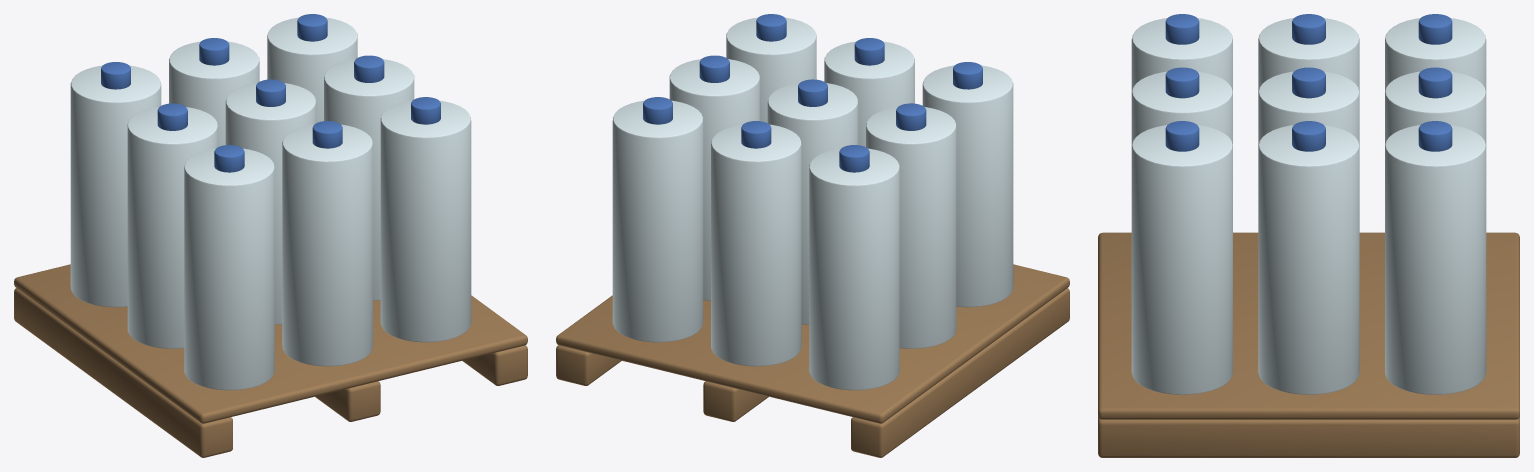
File: pallet.glb
3 views of the same model, side by side, from view 1: azimuth 30°, elevation 25°; view 2: azimuth 150°, elevation 25°; view 3: azimuth 270°, elevation 25° (orthographic). The views are drawn at different scales.
Visible parts, largest first — view 1: b20, b10, b00, deck, b02, b01, rail-0.45, b11, b21, b12, b22, rail0 (+10 smaller); view 2: b22, b12, b02, deck, b00, b01, rail-0.45, b11, b21, b10, b20, rail0 (+10 smaller); view 3: deck, b20, b22, b21, rail0.45, b00, b02, b10, b12, b01, b11, c10 (+8 smaller).
Boxes of the visible parts, x1,y1,x2,y2 form: b20: [380, 100, 471, 342]; b10: [282, 124, 372, 366]; b00: [184, 148, 274, 390]; deck: [14, 264, 527, 423]; b02: [70, 65, 161, 307]; b01: [127, 107, 217, 348]; rail-0.45: [14, 288, 232, 457]; b11: [225, 83, 316, 324]; b21: [324, 59, 414, 300]; b12: [169, 41, 259, 146]; b22: [267, 17, 357, 122]; rail0: [315, 381, 380, 421]; b22: [612, 100, 703, 342]; b12: [711, 124, 801, 366]; b02: [809, 148, 899, 390]; deck: [556, 264, 1069, 423]; b00: [922, 65, 1013, 307]; b01: [866, 107, 956, 348]; rail-0.45: [851, 288, 1069, 457]; b11: [767, 83, 858, 324]; b21: [669, 59, 759, 300]; b10: [824, 41, 914, 146]; b20: [726, 17, 816, 122]; rail0: [703, 381, 768, 421]; deck: [1098, 232, 1519, 419]; b20: [1131, 125, 1232, 394]; b22: [1385, 125, 1486, 394]; b21: [1258, 125, 1359, 394]; rail0.45: [1098, 416, 1519, 457]; b00: [1131, 18, 1232, 92]; b02: [1385, 18, 1486, 92]; b10: [1131, 71, 1232, 145]; b12: [1385, 71, 1486, 145]; b01: [1258, 18, 1359, 91]; b11: [1258, 71, 1359, 145]; c10: [1165, 67, 1199, 98].
Size of the model in its own units: 1 by 0.775 by 1.
